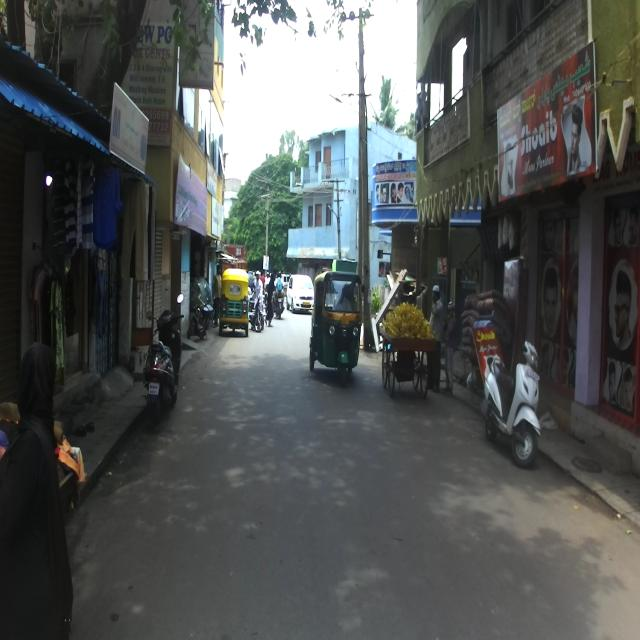auto ahead at: (309, 266, 365, 380), (218, 267, 254, 340)
motorcycle ahead at: (480, 333, 546, 469), (140, 291, 188, 411)
